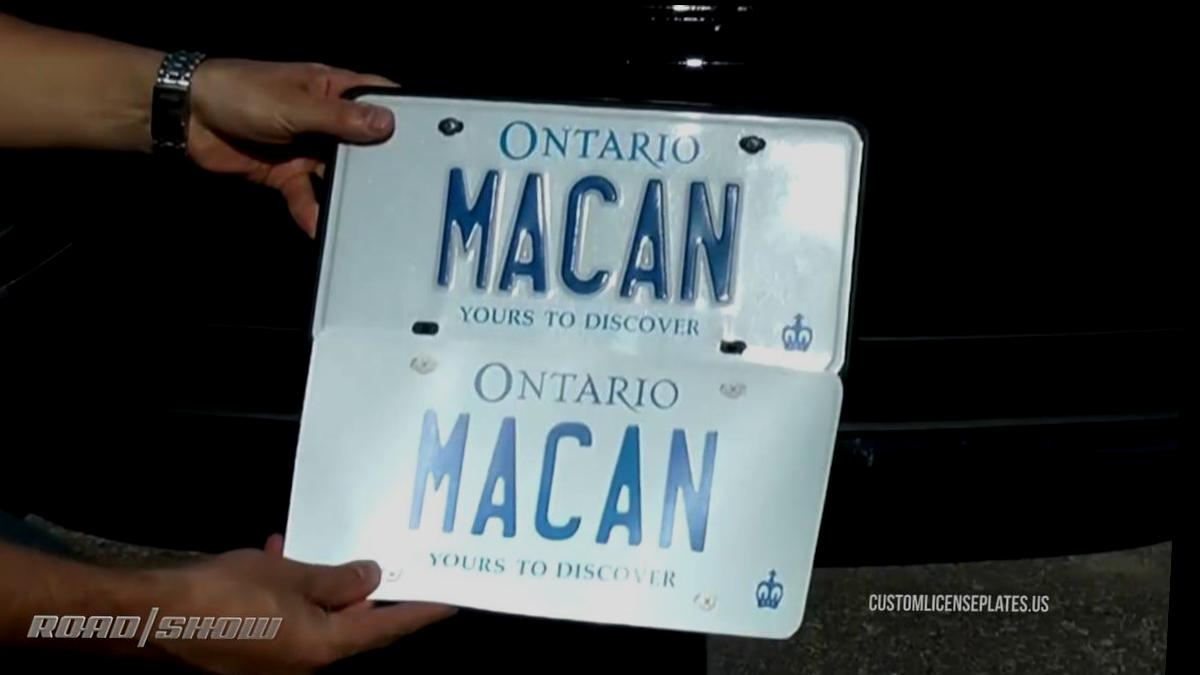License_Plate: (321, 90, 859, 383), (293, 370, 815, 642)
